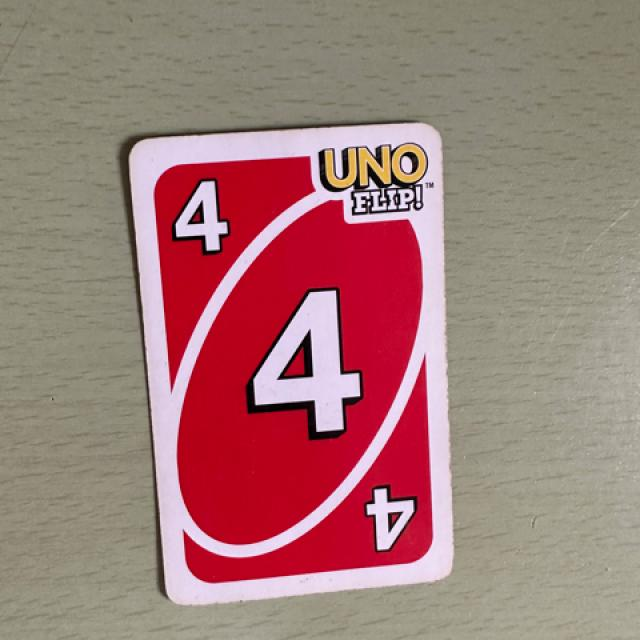lred-4: (147, 158, 257, 282)
